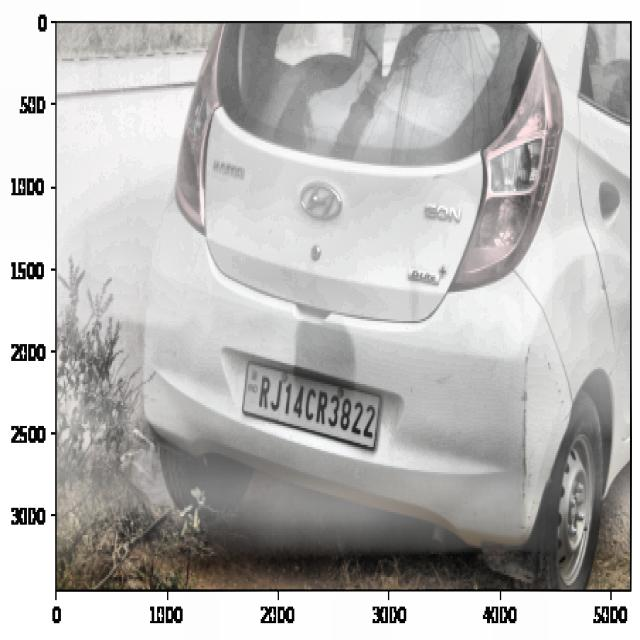license_plate: (254, 369, 380, 452)
